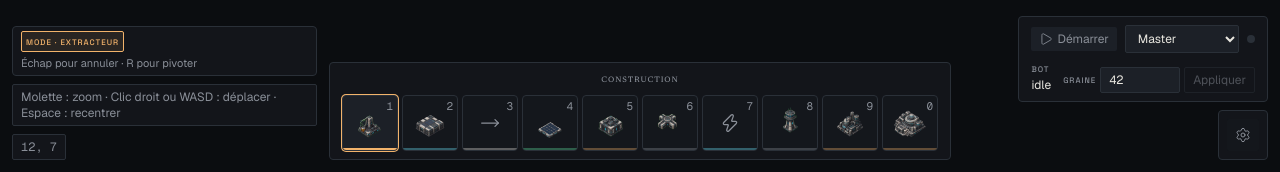
Test case: GameHUD › toggles back to select mode on second click
Step 1. Click the button named "Extracteur" → [370, 123], box [342, 95, 398, 151]
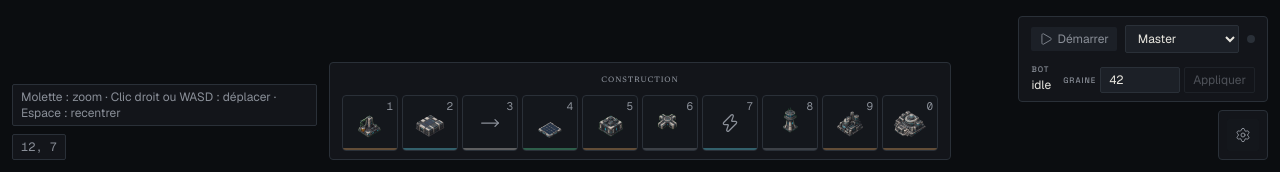
Now the button named "Extracteur" is not pressed, box [342, 95, 398, 151]
